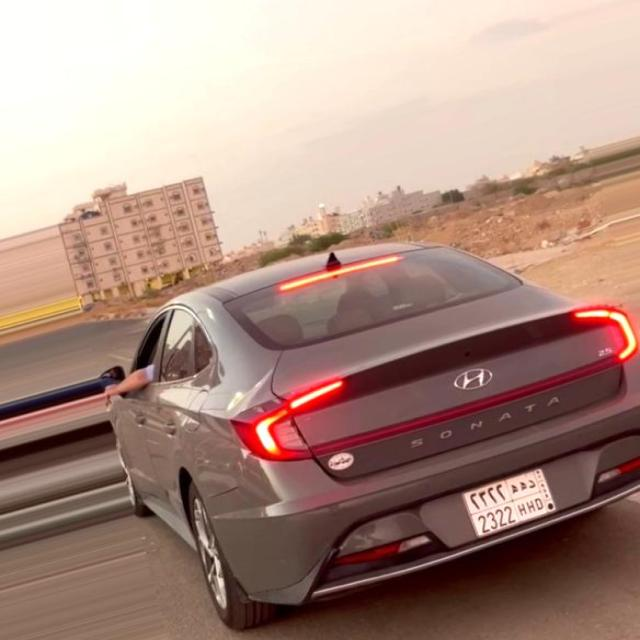Car-plate: (446, 462, 576, 543)
